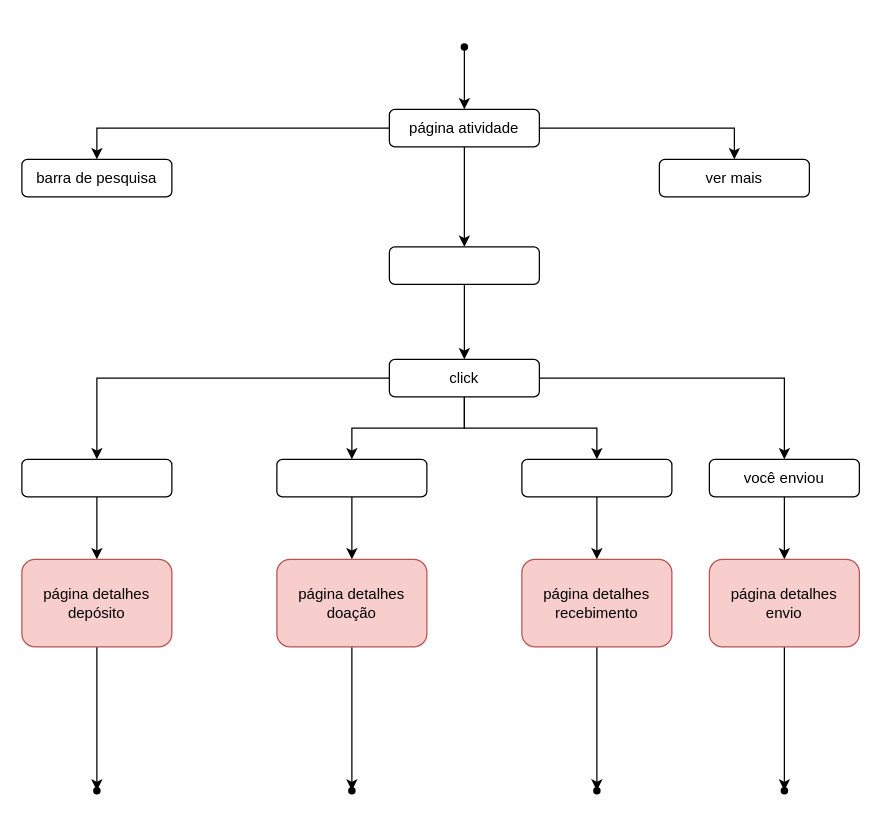
This 881x838 diagram has some shape labels left out. Here are the shapes that lost their labels. From the top down, the centre of each, then its label:
At point (463, 265): "lista de atividades".
At point (96, 477): "voce depositou".
At point (351, 477): "você doou".
At point (596, 477): "você recebeu".
